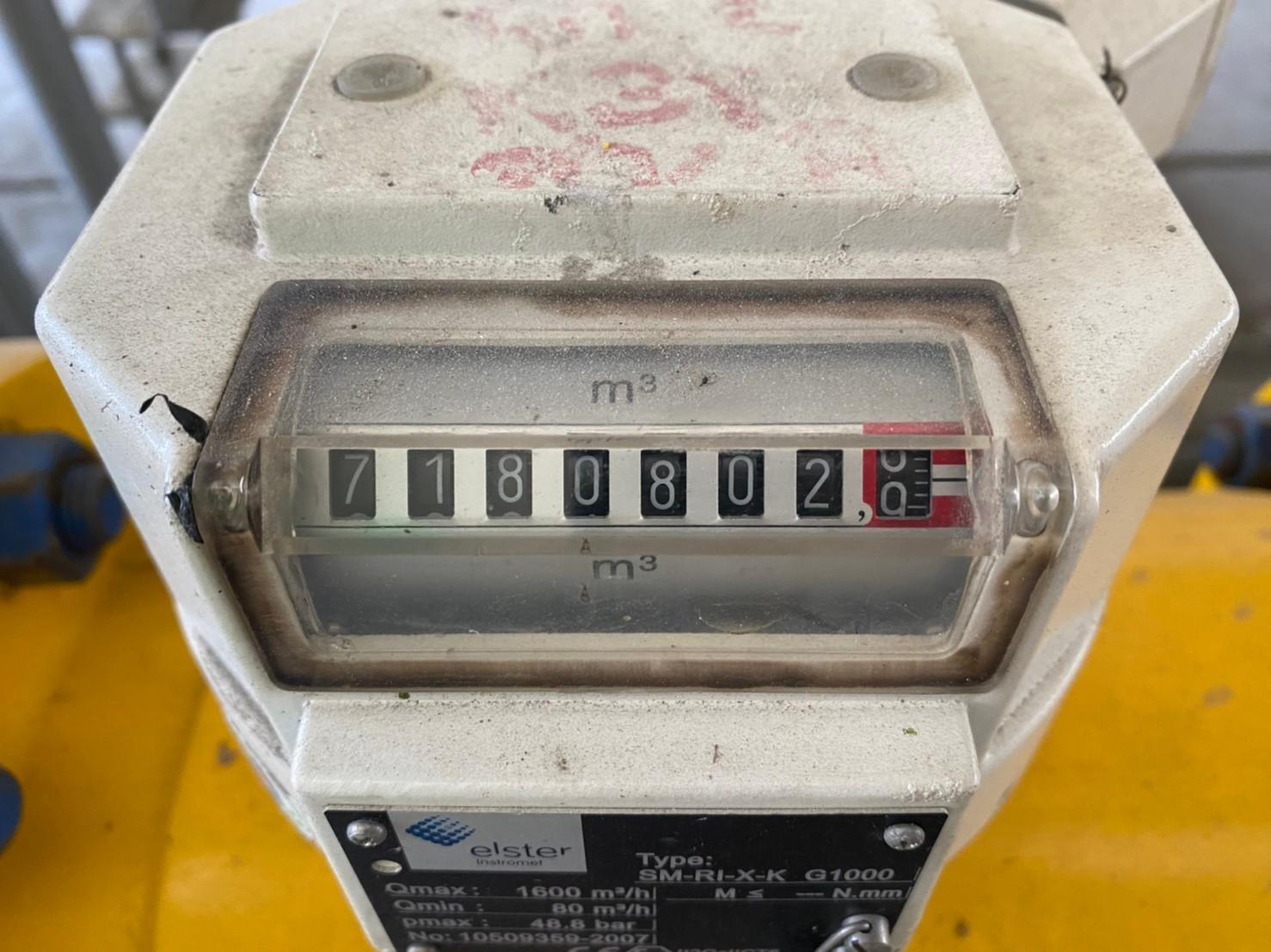analog_dial: (295, 447, 974, 538)
